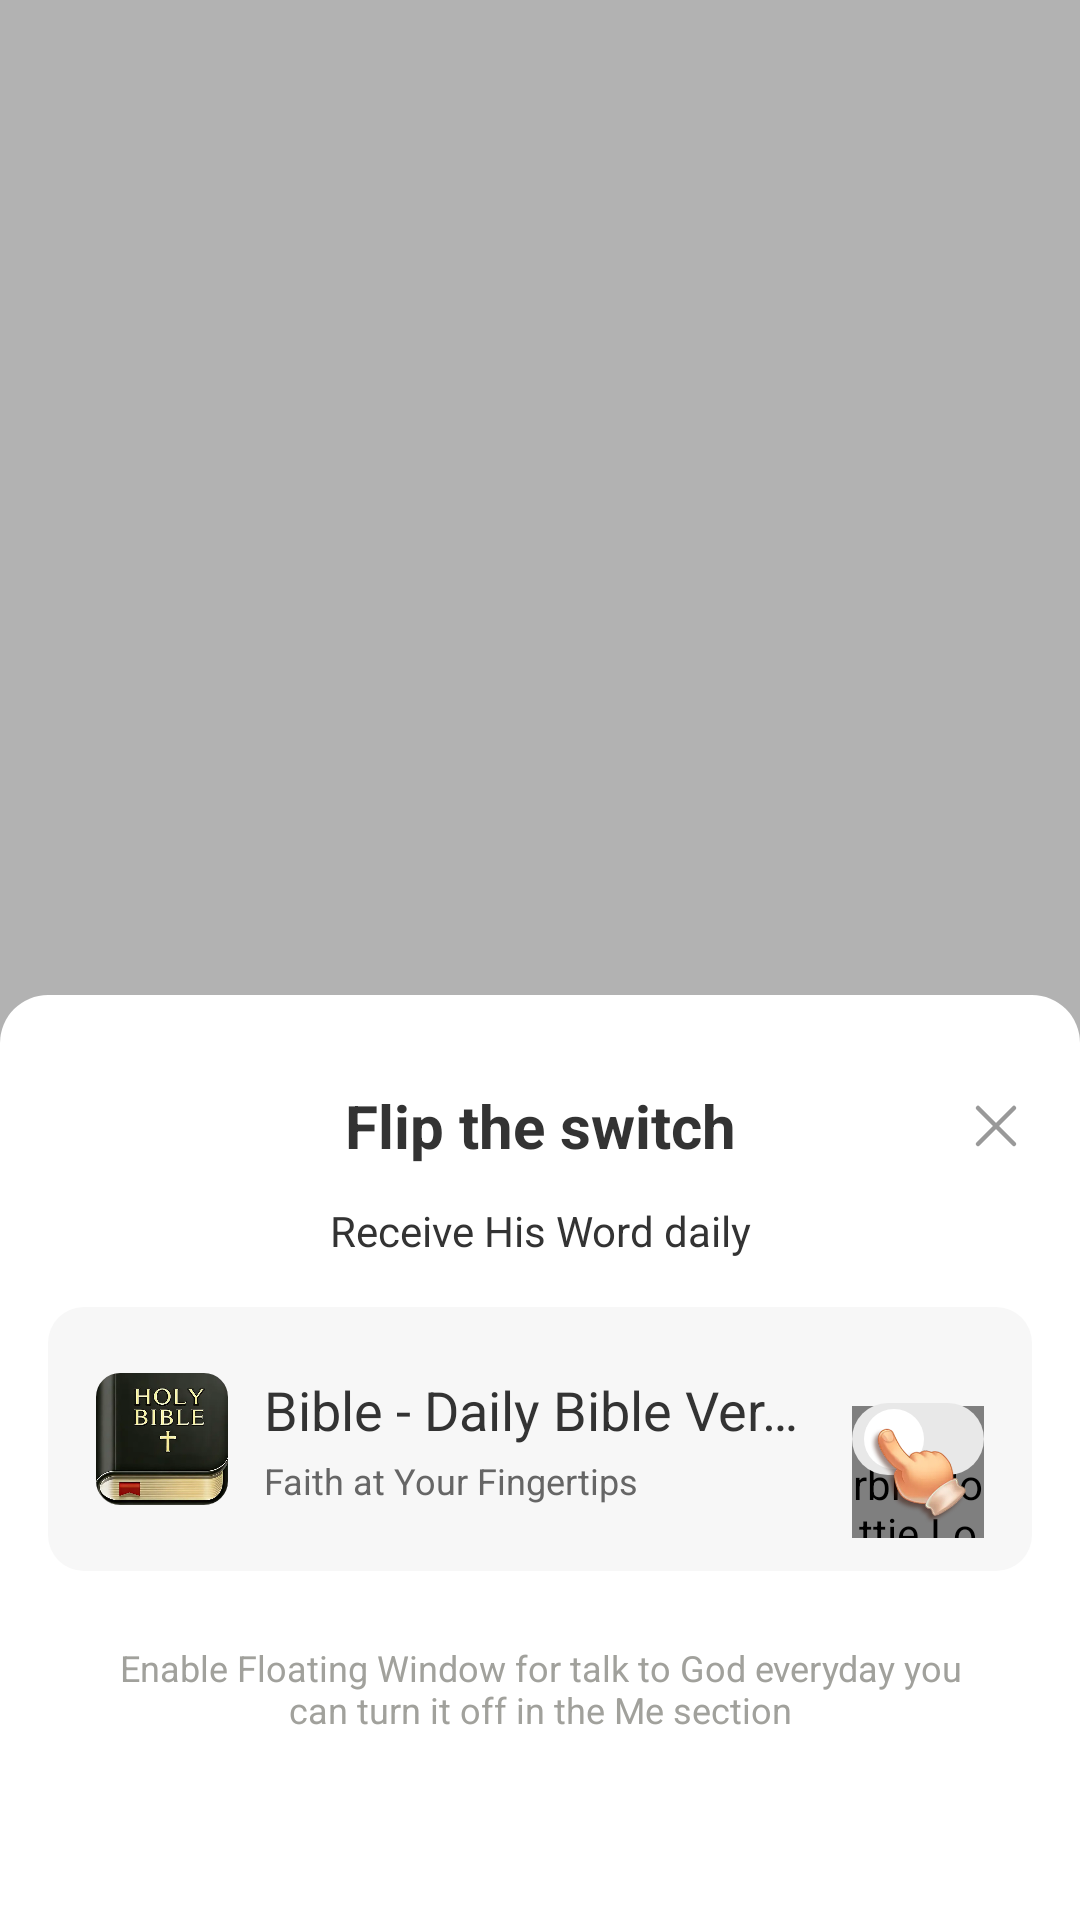

Screen size 1080 x 1920. Icon name, then its center in pixels as (x=x, y=y):
appicon: (x=162, y=1439)
close: (x=996, y=1125)
switch guide: (x=918, y=1476)
